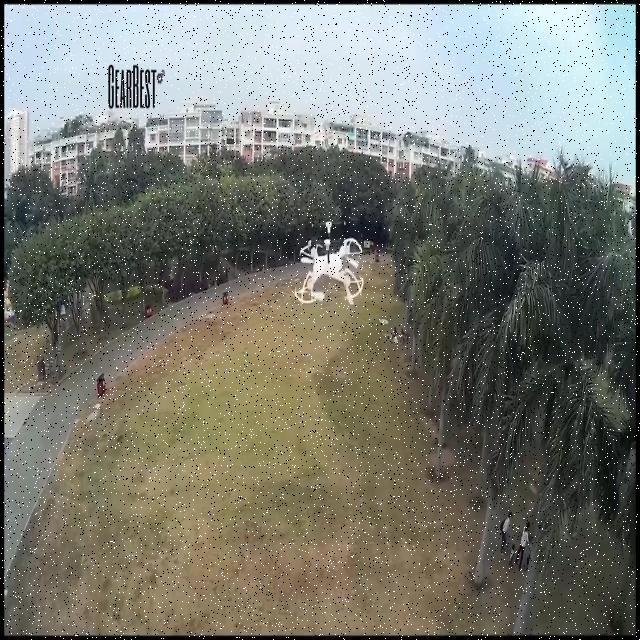UAV: (294, 221, 364, 306)
